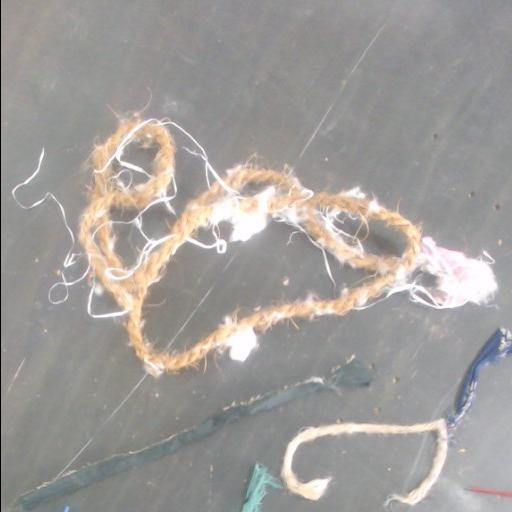cloth: (9, 360, 374, 511), (446, 328, 512, 426), (240, 463, 283, 511)
conveyor belt: (1, 0, 512, 511), (263, 357, 512, 511), (143, 221, 366, 350), (362, 222, 405, 255)
jute: (77, 116, 496, 374), (280, 418, 448, 505)
thread: (466, 486, 512, 497)
